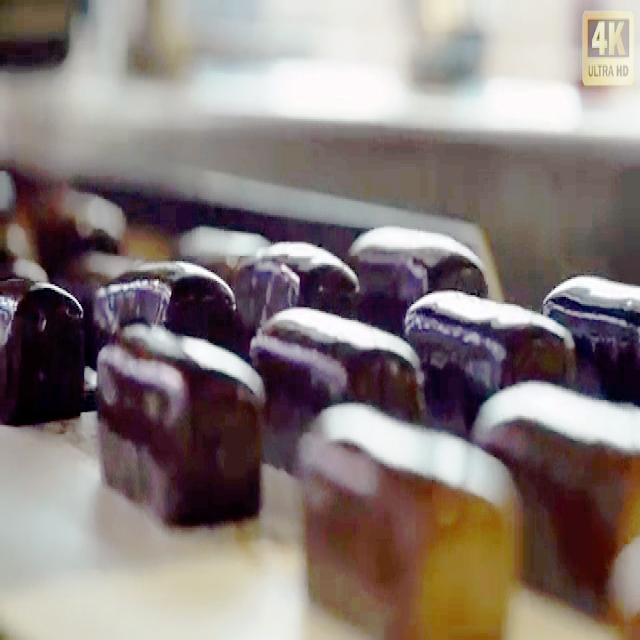Choco: (294, 398, 519, 635), (479, 356, 640, 622), (94, 316, 266, 526), (399, 272, 573, 413), (238, 227, 358, 354), (358, 216, 484, 334), (542, 258, 640, 404), (103, 252, 236, 358), (8, 271, 89, 434)
